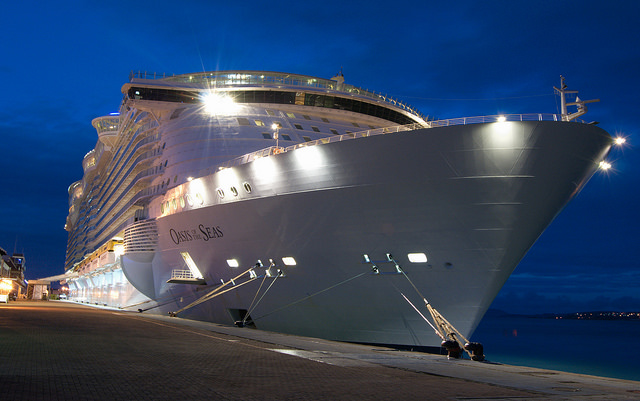cruise_ship: (68, 65, 624, 354)
